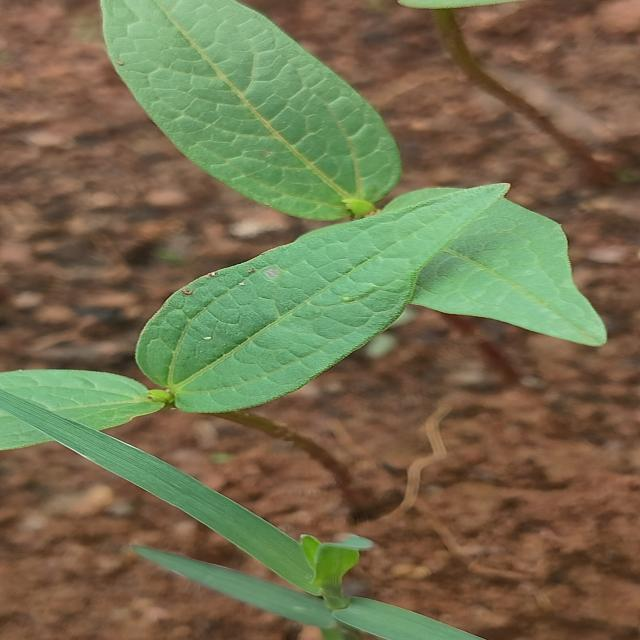Black gram_healthy: (114, 178, 510, 407), (80, 0, 406, 216), (327, 186, 610, 344)
